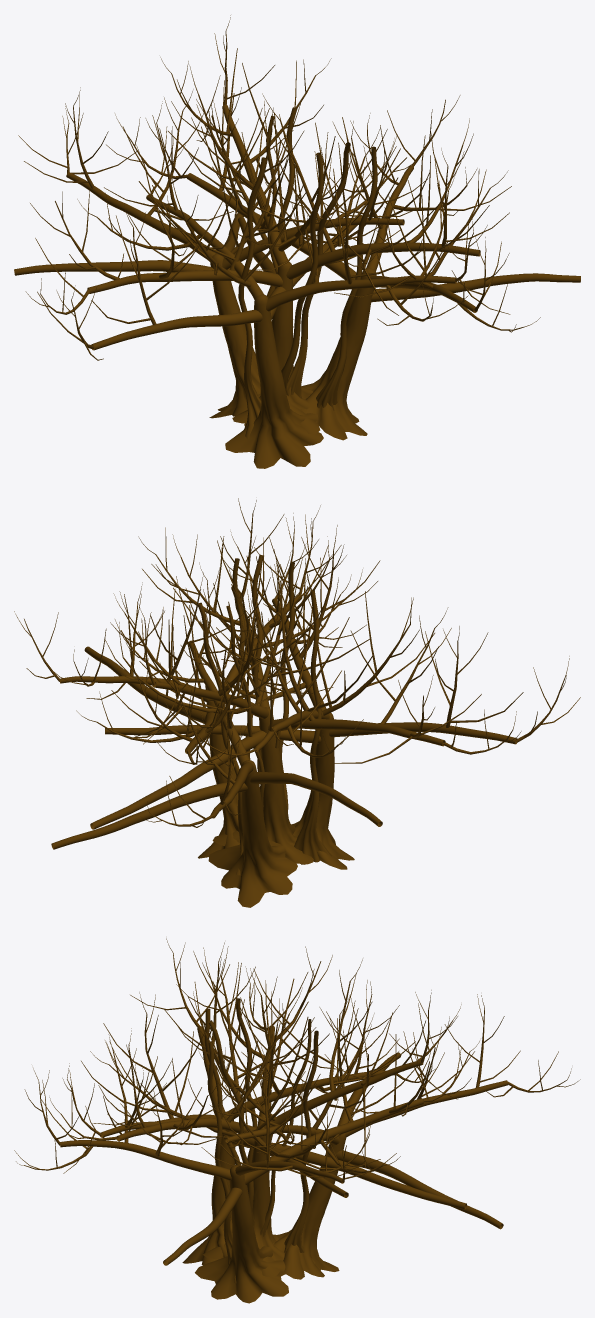
File: Dead Tree (Big).FBX
3 views of the same model, one above another, from view 1: azimuth 30°, elevation 25°; view 2: azimuth 150°, elevation 25°; view 3: azimuth 270°, elevation 25° (orthographic). The views are drawn at different scales.
Parts seen in each view (by area): view 1: Foliage001; view 2: Foliage001; view 3: Foliage001.
Boxes of the visible parts, x1,y1,x2,y2 form: Foliage001: (14, 15, 580, 468); Foliage001: (14, 498, 580, 907); Foliage001: (14, 938, 580, 1303).
Bounding box in the file's own units: 1001 × 634 × 1063.
